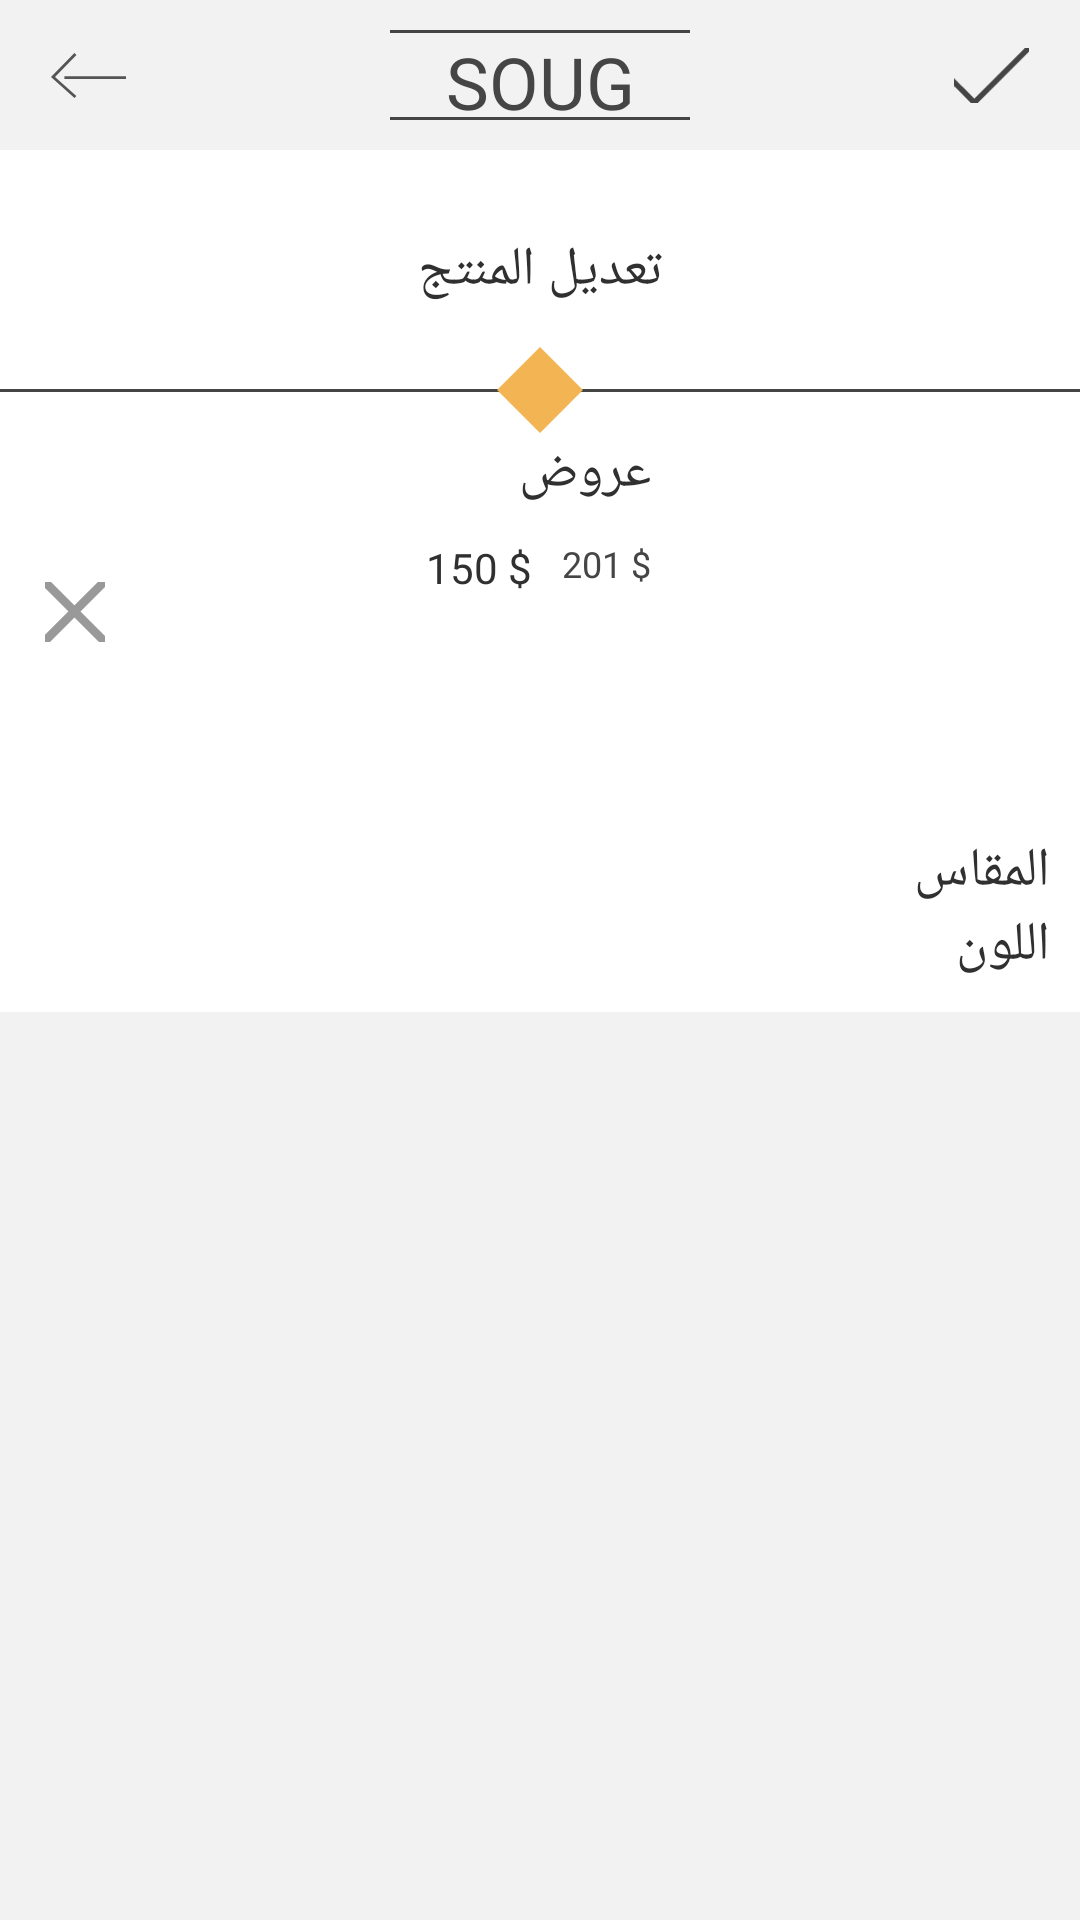

Where to tap for icons on this 1080px x 1920px app screen, as point (x, y):
back: point (88, 75)
delete: point (75, 612)
edit ok: point (991, 75)
